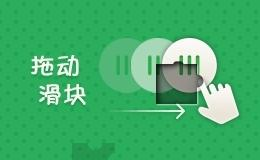target: (135, 44, 176, 84)
